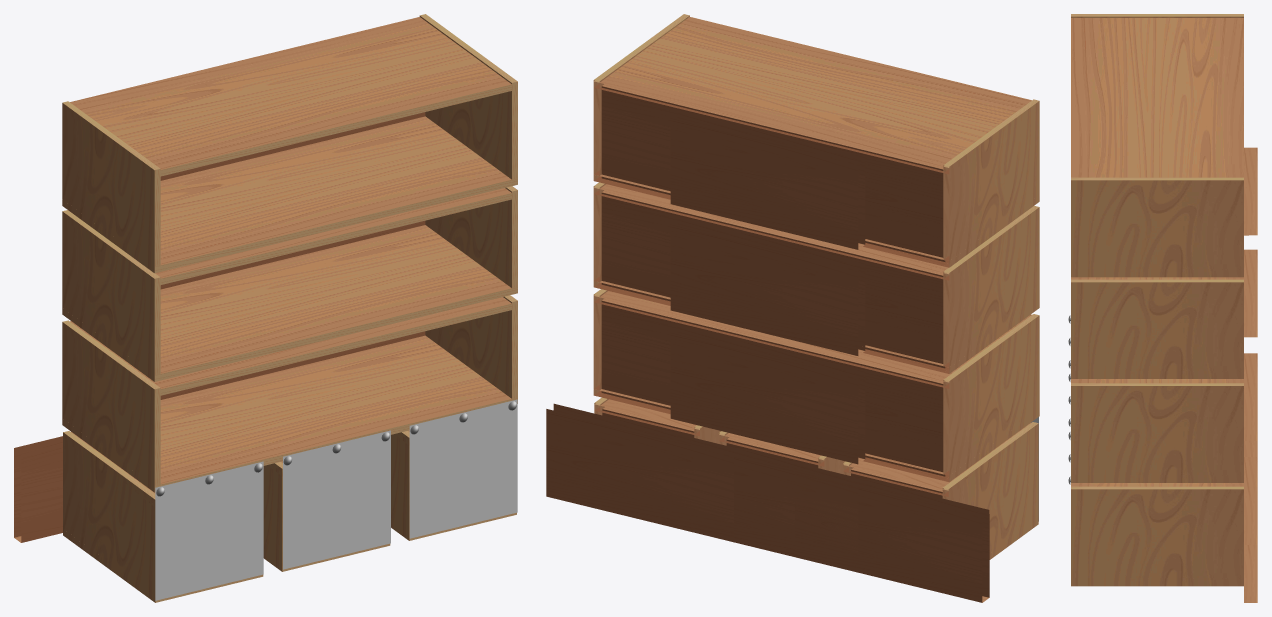
The model's file is layout_poster_wide_4s_bot_split.fbx.
3 views of the same model, side by side, from view 1: azimuth 30°, elevation 25°; view 2: azimuth 150°, elevation 25°; view 3: azimuth 270°, elevation 25° (orthographic). The views are drawn at different scales.
Visible parts, largest first — view 1: Shelf-TM-00 5, Shelf-BM-00 5, Shelf-BM-00 4, Shelf-BM-00 3, Mesh-Poster-Small01, Mesh-Poster-Small01 2, Mesh-Poster-Small01 1, Shelf-CL-01 5, Shelf-CL-01 3, Shelf-CL-01 4, Shelf-CL-01 2, Shelf-TM-00 3 (+14 smaller); view 2: Shelf-TM-00 5, Shelf-Back-00 (1) 5, Shelf-Back-00 (1) 3, Shelf-Back-00 (1) 4, Shelf-Back-00 (1) 2, Shelf-Back-00 (1) 1, Shelf-Back-00 3, Shelf-Back-00 4, Shelf-Back-00 5, Shelf-Back-00 (1), Shelf-CL-01 5, Shelf-CL-01 3 (+19 smaller); view 3: Shelf-TM-00 5, Shelf-CR-01 1, Shelf-CR-01 3, Shelf-CR-01 4, Shelf-CR-01 5, Shelf-Back-00 (1) 4, Shelf-Back-00 (1) 5, Shelf-Back-00 (1) 3, Shelf-CR-00 1, Shelf-CR-00 3, Shelf-CR-00 5, Shelf-Back-00 (1) (+7 smaller).
Boxes of the visible parts, bbox=[...] form: Shelf-TM-00 5: bbox=[70, 17, 511, 176]; Shelf-BM-00 5: bbox=[160, 116, 511, 271]; Shelf-BM-00 4: bbox=[160, 225, 511, 380]; Shelf-BM-00 3: bbox=[160, 335, 511, 486]; Mesh-Poster-Small01: bbox=[155, 461, 263, 600]; Mesh-Poster-Small01 2: bbox=[409, 399, 517, 538]; Mesh-Poster-Small01 1: bbox=[283, 430, 390, 569]; Shelf-CL-01 5: bbox=[62, 101, 160, 266]; Shelf-CL-01 3: bbox=[62, 320, 160, 485]; Shelf-CL-01 4: bbox=[62, 210, 160, 375]; Shelf-CL-01 2: bbox=[63, 431, 155, 595]; Shelf-TM-00 3: bbox=[70, 297, 511, 395]; Shelf-TM-00 5: bbox=[600, 17, 1031, 172]; Shelf-Back-00 (1) 5: bbox=[670, 111, 865, 249]; Shelf-Back-00 (1) 3: bbox=[670, 326, 865, 464]; Shelf-Back-00 (1) 4: bbox=[670, 217, 865, 355]; Shelf-Back-00 (1) 2: bbox=[795, 467, 989, 602]; Shelf-Back-00 (1) 1: bbox=[546, 403, 740, 542]; Shelf-Back-00 3: bbox=[601, 298, 945, 476]; Shelf-Back-00 4: bbox=[601, 190, 945, 368]; Shelf-Back-00 5: bbox=[601, 84, 945, 261]; Shelf-Back-00 (1): bbox=[670, 434, 865, 571]; Shelf-CL-01 5: bbox=[943, 99, 1039, 261]; Shelf-CL-01 3: bbox=[943, 314, 1039, 475]; Shelf-TM-00 5: bbox=[1071, 18, 1243, 177]; Shelf-CR-01 1: bbox=[1071, 486, 1243, 579]; Shelf-CR-01 3: bbox=[1071, 383, 1243, 476]; Shelf-CR-01 4: bbox=[1071, 279, 1243, 372]; Shelf-CR-01 5: bbox=[1071, 177, 1243, 270]; Shelf-Back-00 (1) 4: bbox=[1244, 249, 1257, 337]; Shelf-Back-00 (1) 5: bbox=[1244, 147, 1257, 235]; Shelf-Back-00 (1) 3: bbox=[1244, 353, 1257, 440]; Shelf-CR-00 1: bbox=[1071, 580, 1243, 586]; Shelf-CR-00 3: bbox=[1071, 476, 1243, 482]; Shelf-CR-00 5: bbox=[1071, 271, 1243, 277]; Shelf-Back-00 (1): bbox=[1244, 457, 1257, 544].
Size of the model in its own units: 223 by 207 by 87.42.
